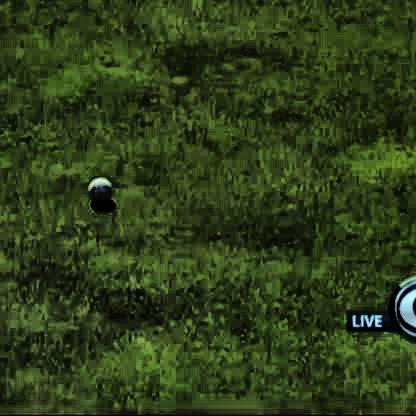golfball: (86, 171, 111, 199)
